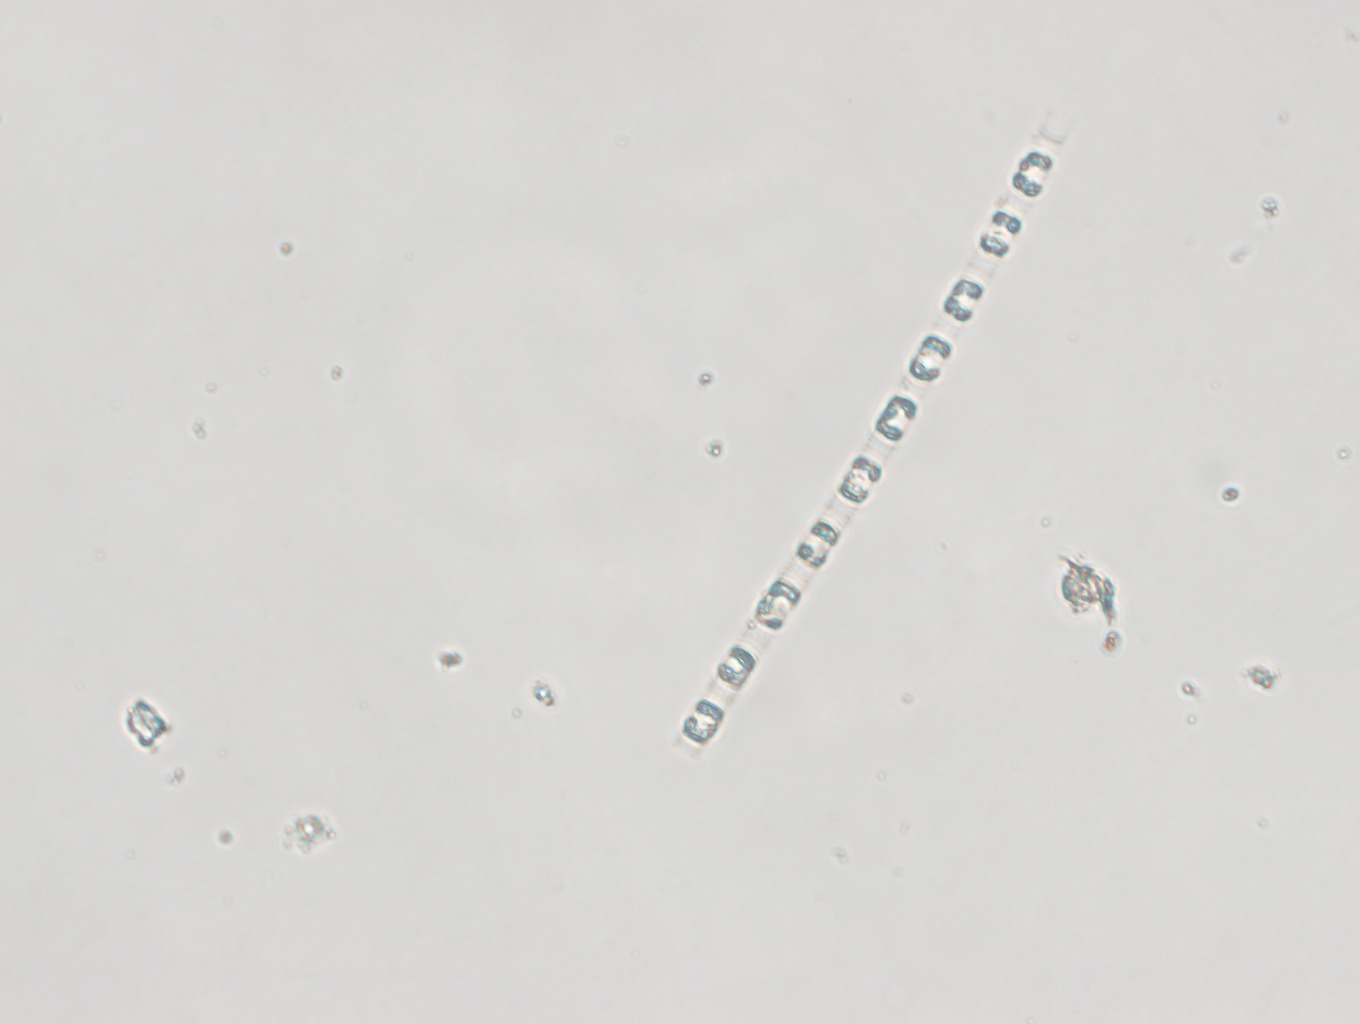skeletonema: (664, 101, 1088, 759)
